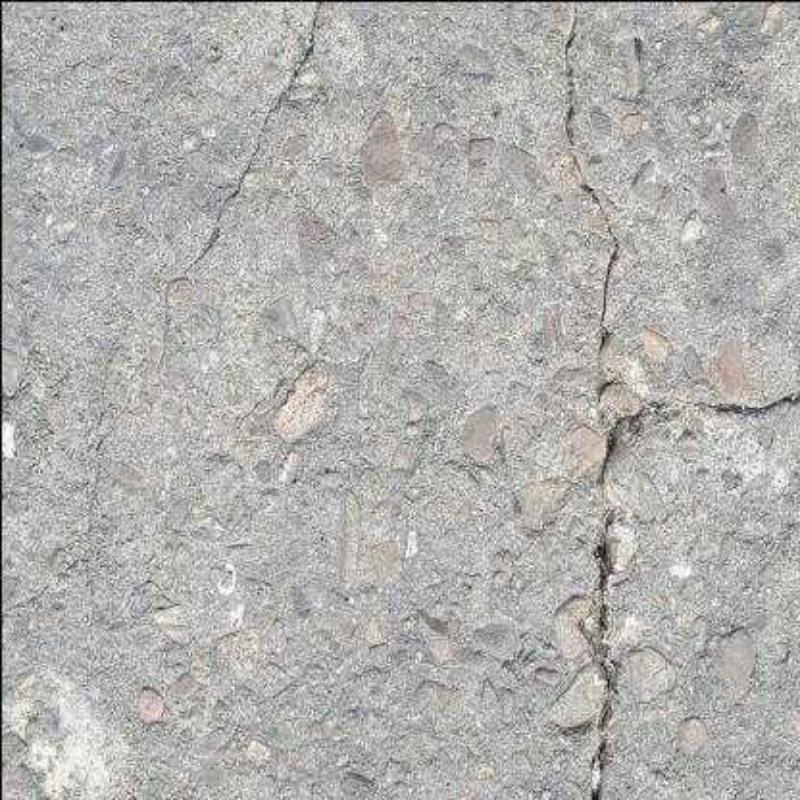pothole: (587, 383, 798, 797), (162, 0, 323, 327), (561, 1, 623, 367)
